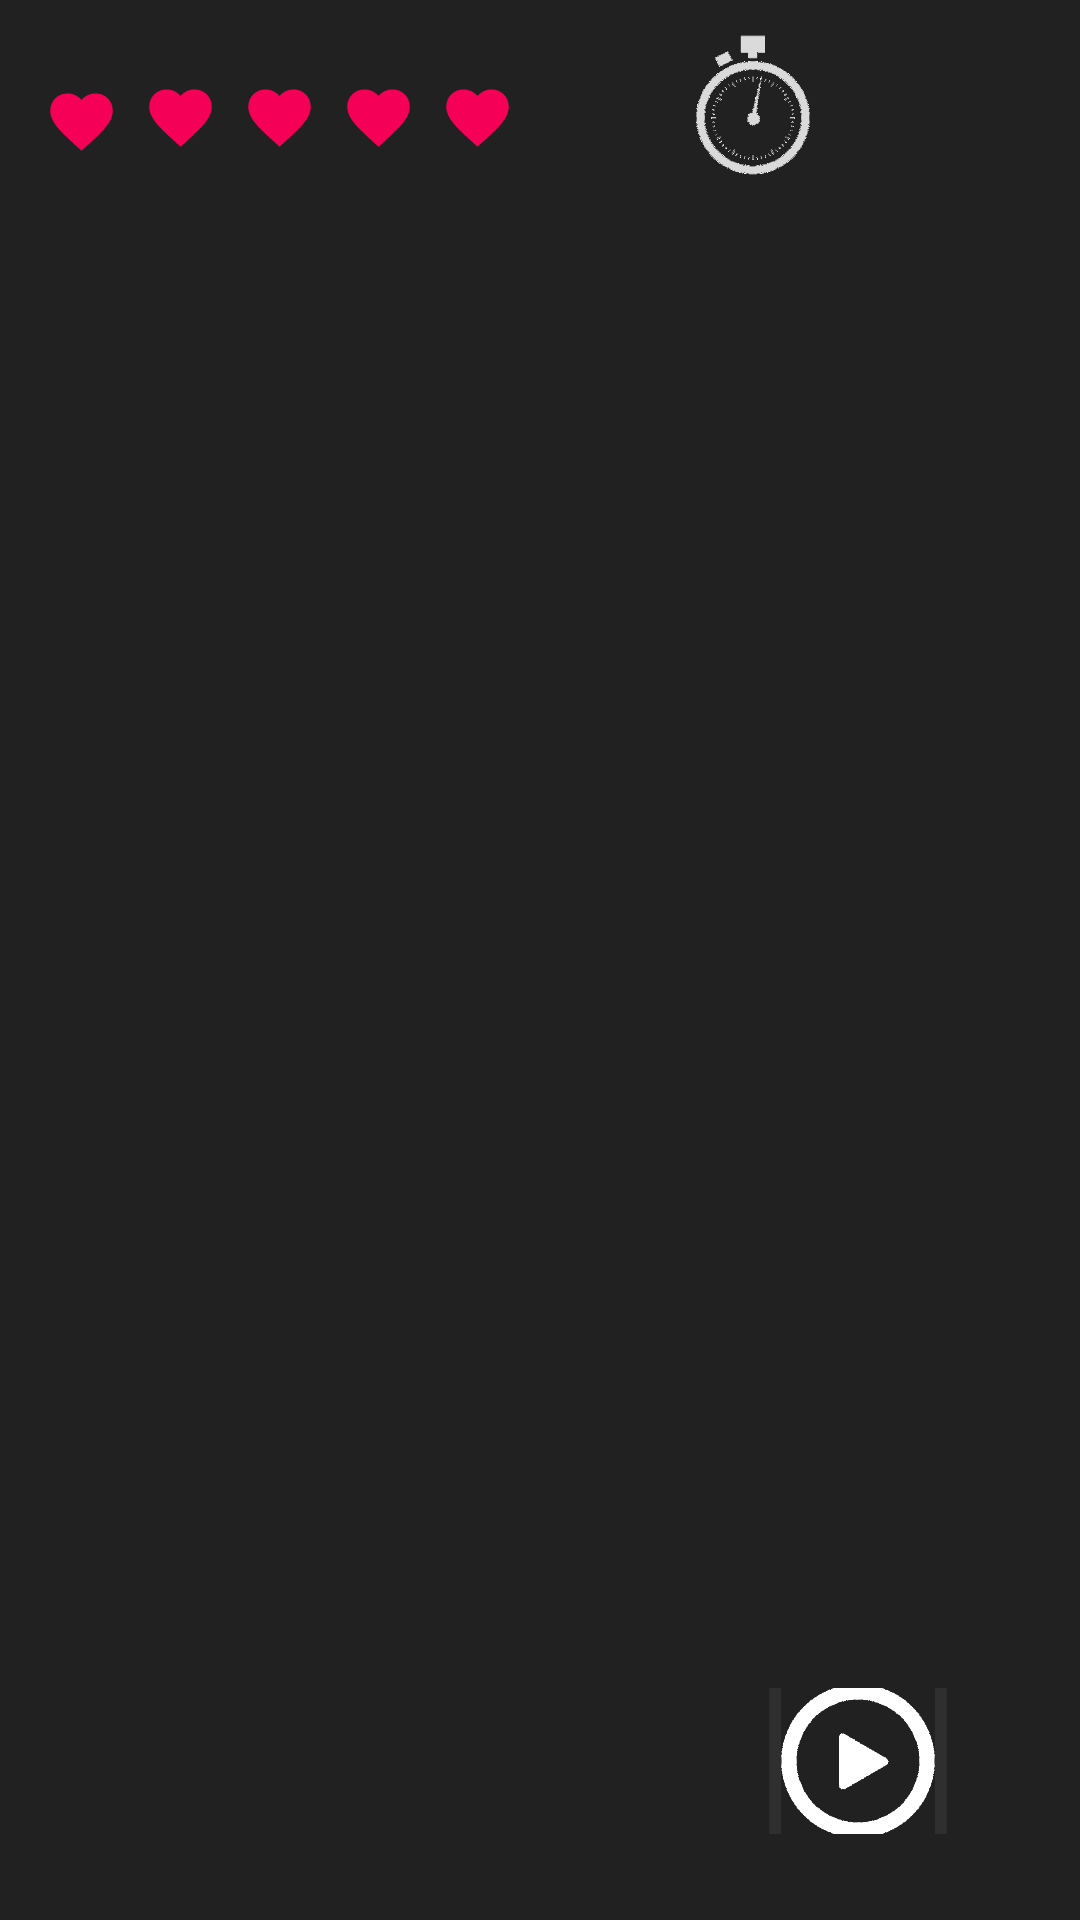

Screen size 1080w x 1920h. Icon name, then its center in pixels as point (x, y):
clock: point (753, 105)
heart: point (180, 118), point (279, 118), point (378, 118), point (477, 118), point (81, 122)
